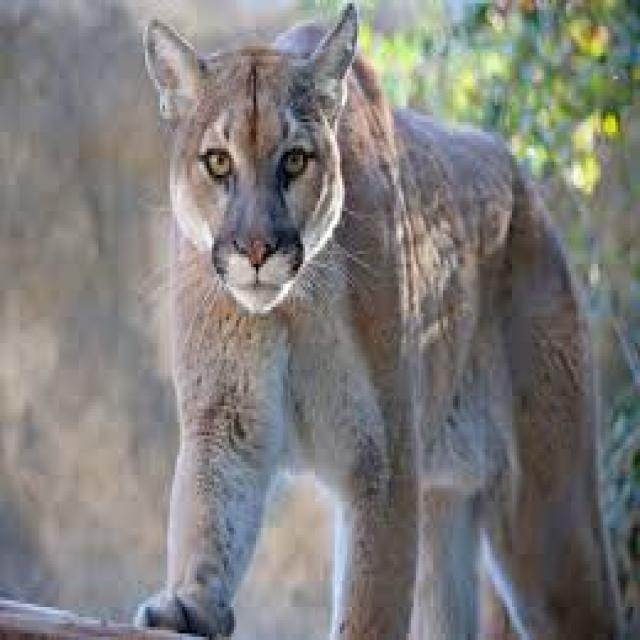Lion: (134, 6, 628, 637)
